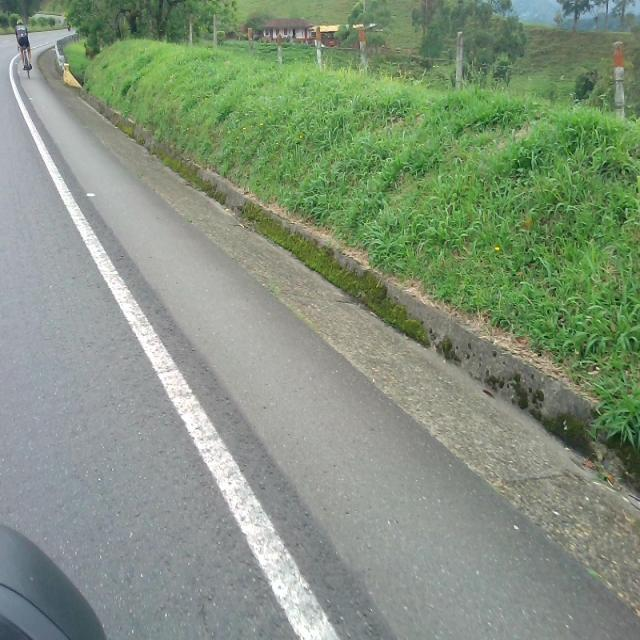DITCH: (9, 34, 638, 637)
